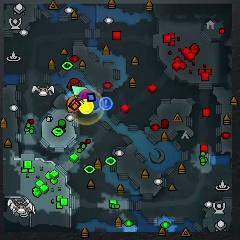Other: (99, 97, 114, 109)
p2: (70, 85, 87, 95)
p3: (78, 88, 96, 101)
p4: (76, 98, 94, 114)
p5: (65, 95, 81, 115)
